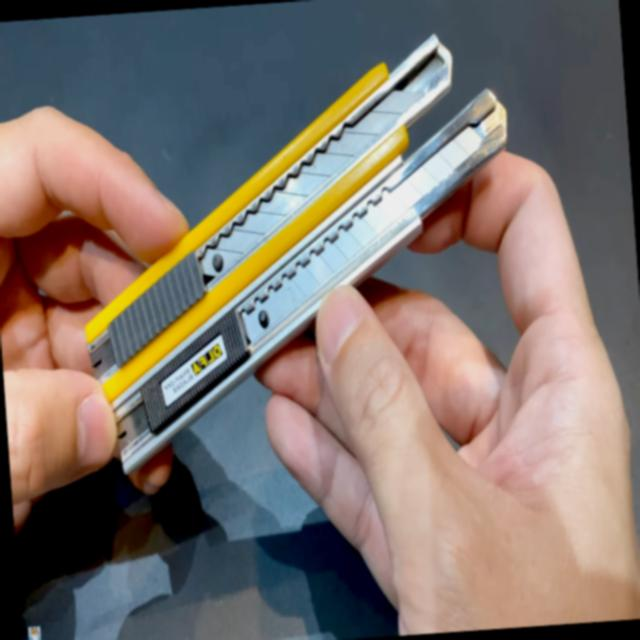cutter: (0, 0, 595, 593)
